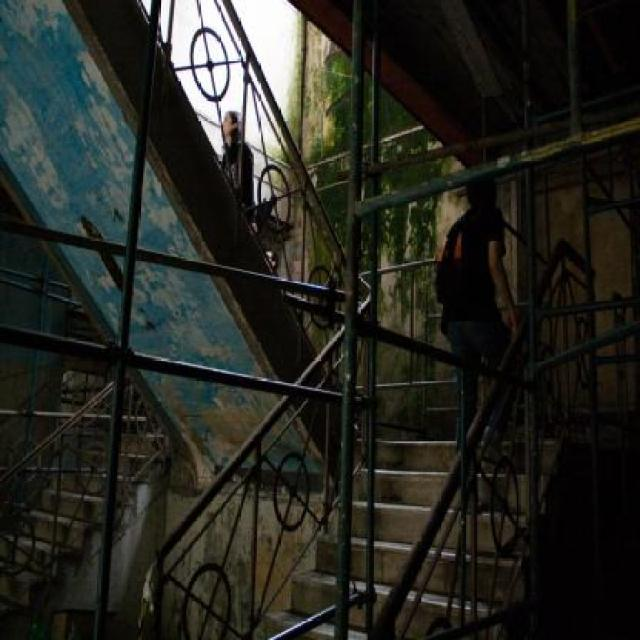stair: (264, 437, 566, 640), (0, 437, 168, 616)
